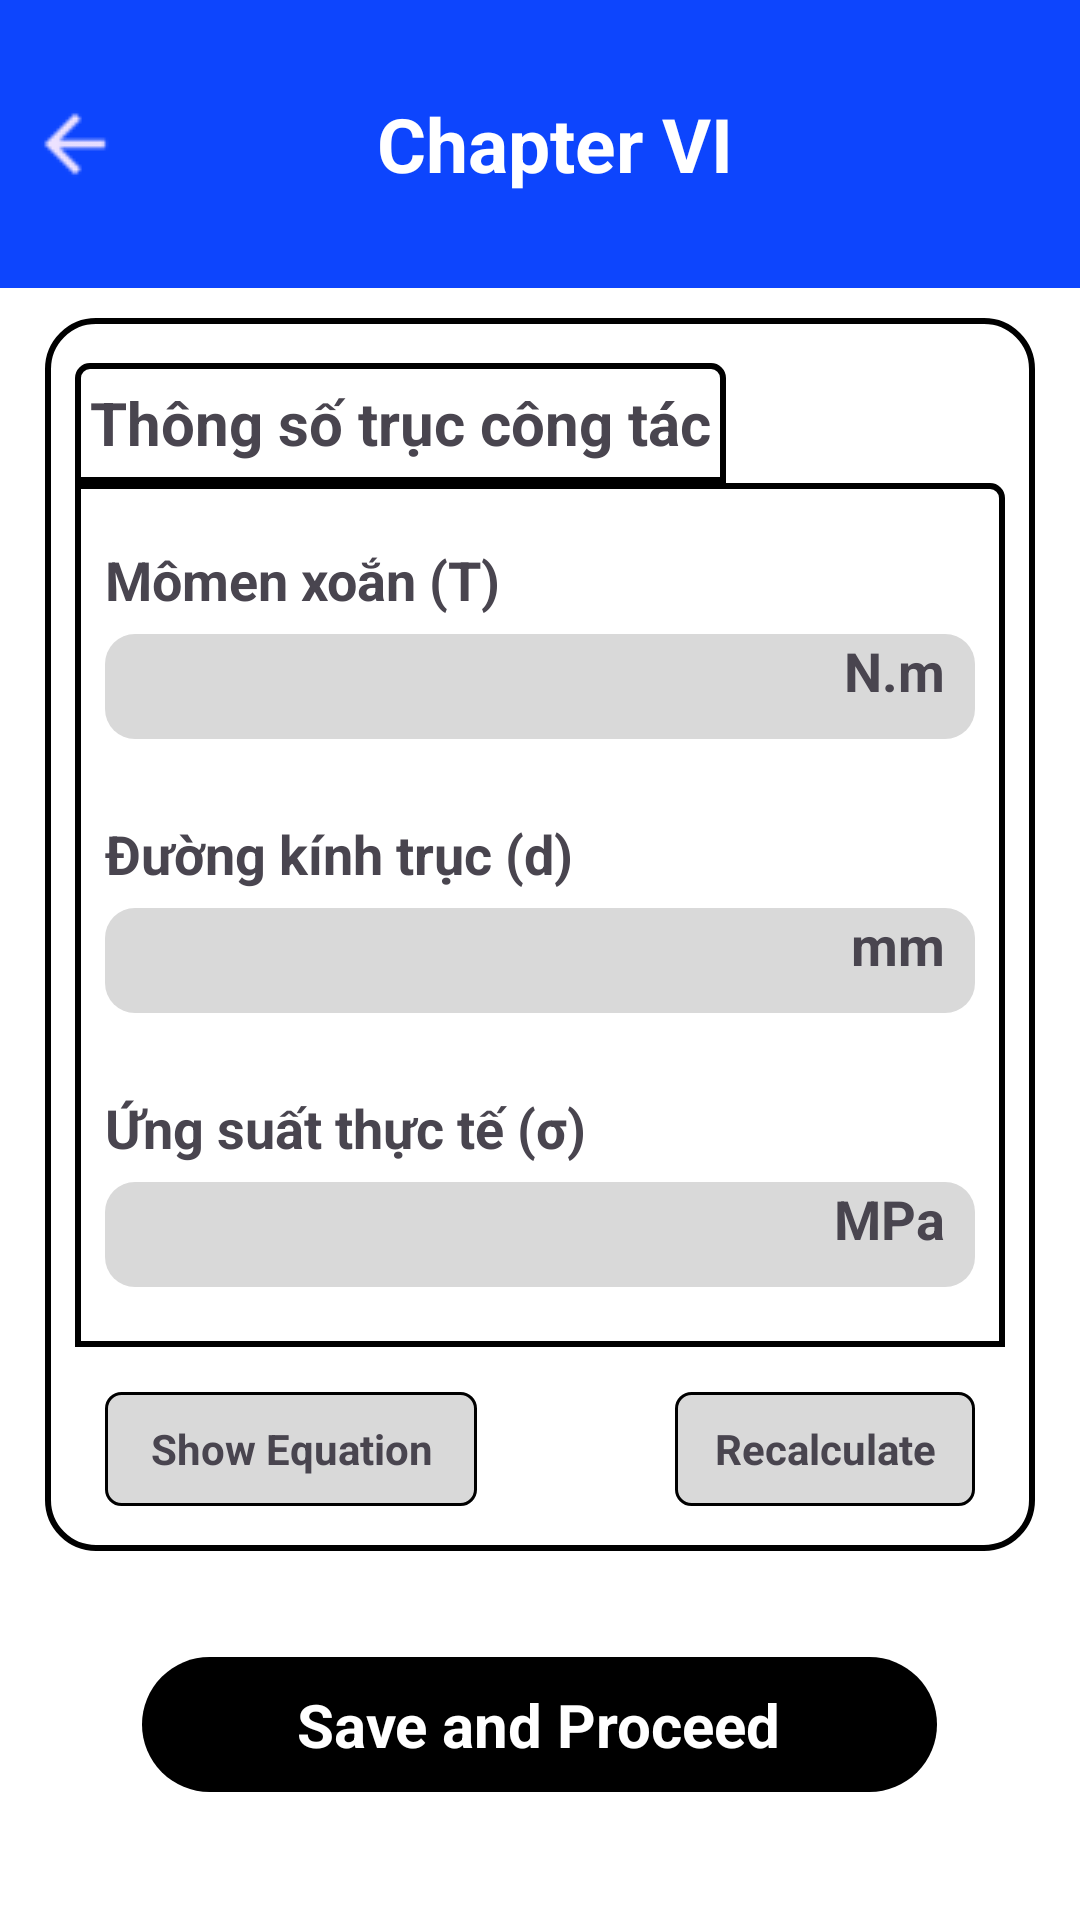

Screen size 1080 × 1920. Icon name, then its center in pixels as (x,y):
arrow back: (75,144)
